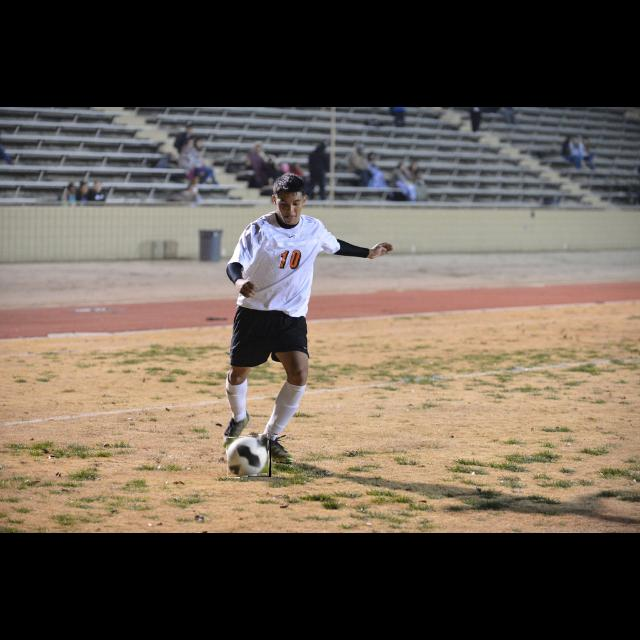Football: (227, 435, 271, 477)
